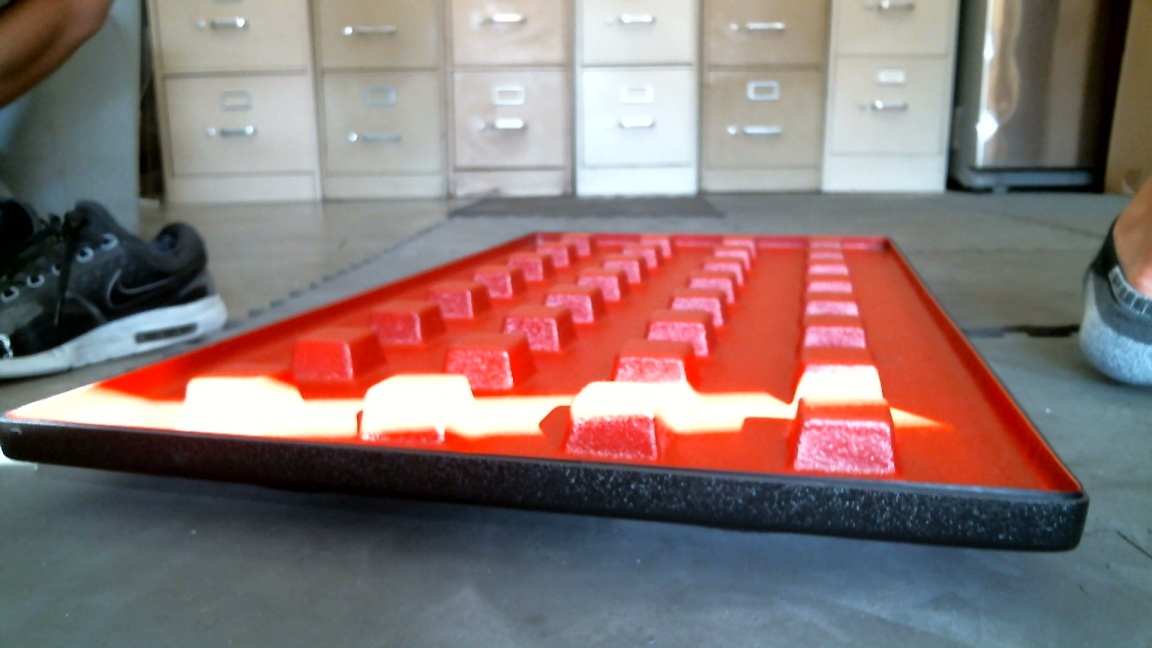red_foundation: (1, 229, 1088, 575)
